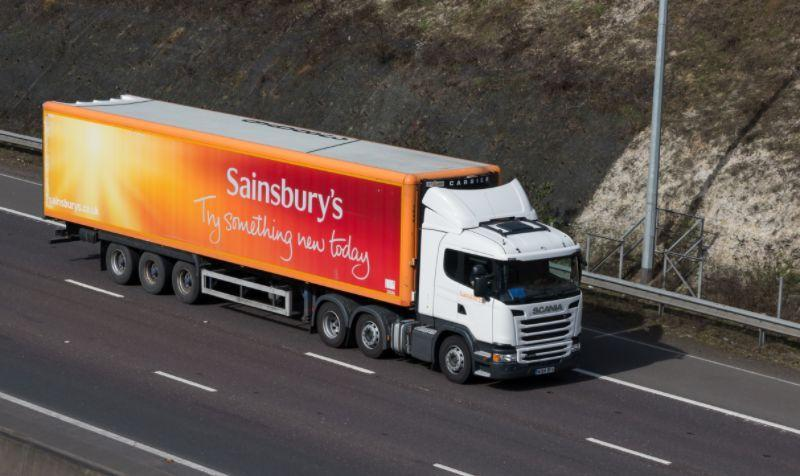truck: (42, 93, 586, 386)
